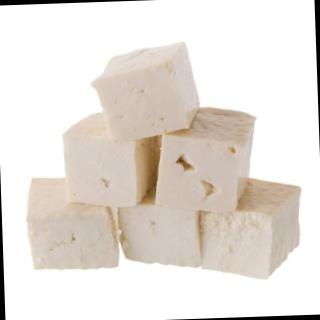Tahu: (21, 27, 310, 290)
